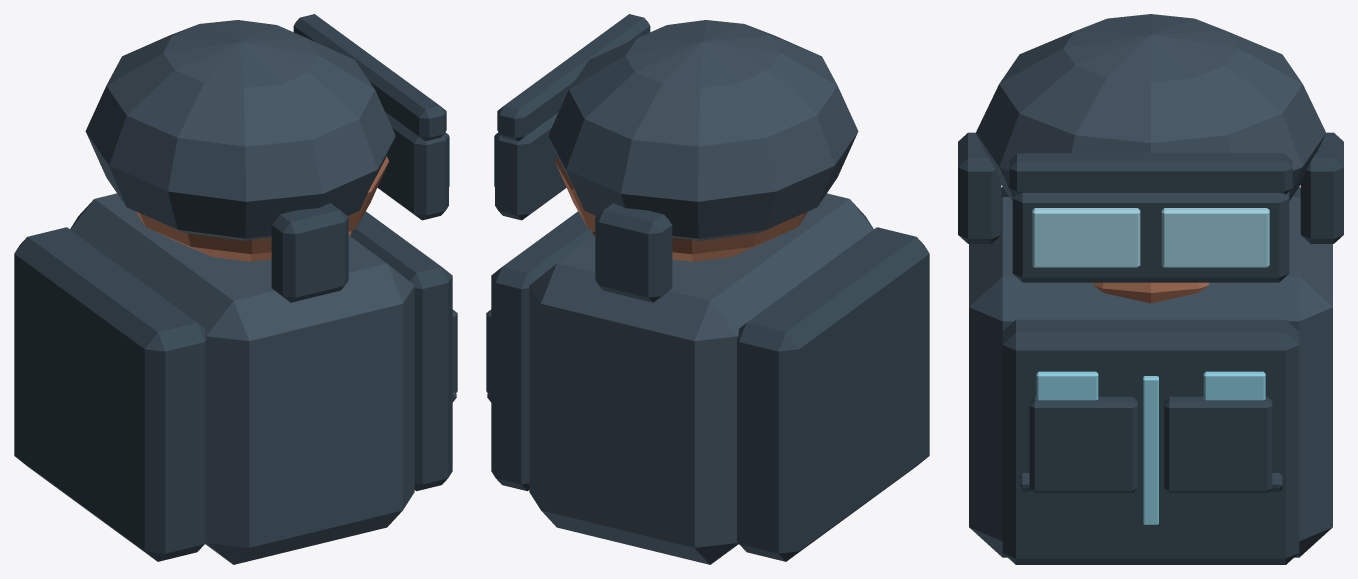
Rendered from blue-strike.black-ice.glb.
The picture shows the model from 3 angles, left to right: view 1: azimuth 30°, elevation 25°; view 2: azimuth 150°, elevation 25°; view 3: azimuth 270°, elevation 25°; orthographic projection. The views are drawn at different scales.
Visible parts, largest first — view 1: blue-strike_black-ice__main__torso_finish_40515f_0.03, blue-strike_black-ice__main__torso_finish_354652_0.03, blue-strike_black-ice__main__head_finish_40515f_0.03, blue-strike_black-ice__main__head_finish_354652_0.03, blue-strike_black-ice__main__head_finish_a96f55_0.03; view 2: blue-strike_black-ice__main__torso_finish_40515f_0.03, blue-strike_black-ice__main__torso_finish_354652_0.03, blue-strike_black-ice__main__head_finish_40515f_0.03, blue-strike_black-ice__main__head_finish_354652_0.03, blue-strike_black-ice__main__head_finish_a96f55_0.03; view 3: blue-strike_black-ice__main__torso_finish_354652_0.03, blue-strike_black-ice__main__head_finish_40515f_0.03, blue-strike_black-ice__main__torso_finish_40515f_0.03, blue-strike_black-ice__main__head_finish_354652_0.03, blue-strike_black-ice__main__head_finish_a1d6e6_0.03, blue-strike_black-ice__main__torso_finish_90d5e9_0.03, blue-strike_black-ice__main__head_finish_a96f55_0.03.
Boxes of the visible parts, bbox=[...] form: blue-strike_black-ice__main__torso_finish_40515f_0.03: bbox=[70, 193, 414, 564]; blue-strike_black-ice__main__torso_finish_354652_0.03: bbox=[14, 211, 457, 561]; blue-strike_black-ice__main__head_finish_40515f_0.03: bbox=[85, 20, 395, 240]; blue-strike_black-ice__main__head_finish_354652_0.03: bbox=[271, 14, 448, 302]; blue-strike_black-ice__main__head_finish_a96f55_0.03: bbox=[135, 156, 388, 261]; blue-strike_black-ice__main__torso_finish_40515f_0.03: bbox=[529, 193, 873, 564]; blue-strike_black-ice__main__torso_finish_354652_0.03: bbox=[486, 211, 929, 561]; blue-strike_black-ice__main__head_finish_40515f_0.03: bbox=[548, 20, 858, 240]; blue-strike_black-ice__main__head_finish_354652_0.03: bbox=[495, 14, 672, 302]; blue-strike_black-ice__main__head_finish_a96f55_0.03: bbox=[555, 156, 808, 261]; blue-strike_black-ice__main__torso_finish_354652_0.03: bbox=[1001, 187, 1300, 564]; blue-strike_black-ice__main__head_finish_40515f_0.03: bbox=[976, 14, 1325, 200]; blue-strike_black-ice__main__torso_finish_40515f_0.03: bbox=[969, 197, 1332, 557]; blue-strike_black-ice__main__head_finish_354652_0.03: bbox=[958, 132, 1343, 282]; blue-strike_black-ice__main__head_finish_a1d6e6_0.03: bbox=[1032, 208, 1269, 267]; blue-strike_black-ice__main__torso_finish_90d5e9_0.03: bbox=[1036, 371, 1265, 524]; blue-strike_black-ice__main__head_finish_a96f55_0.03: bbox=[1092, 282, 1209, 303].
Bounding box in the file's own units: 30 × 39.5 × 28.6.
